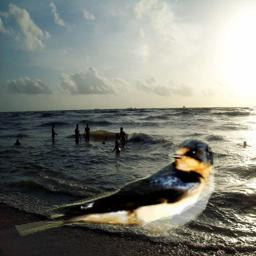Swallow: (15, 137, 218, 242)
